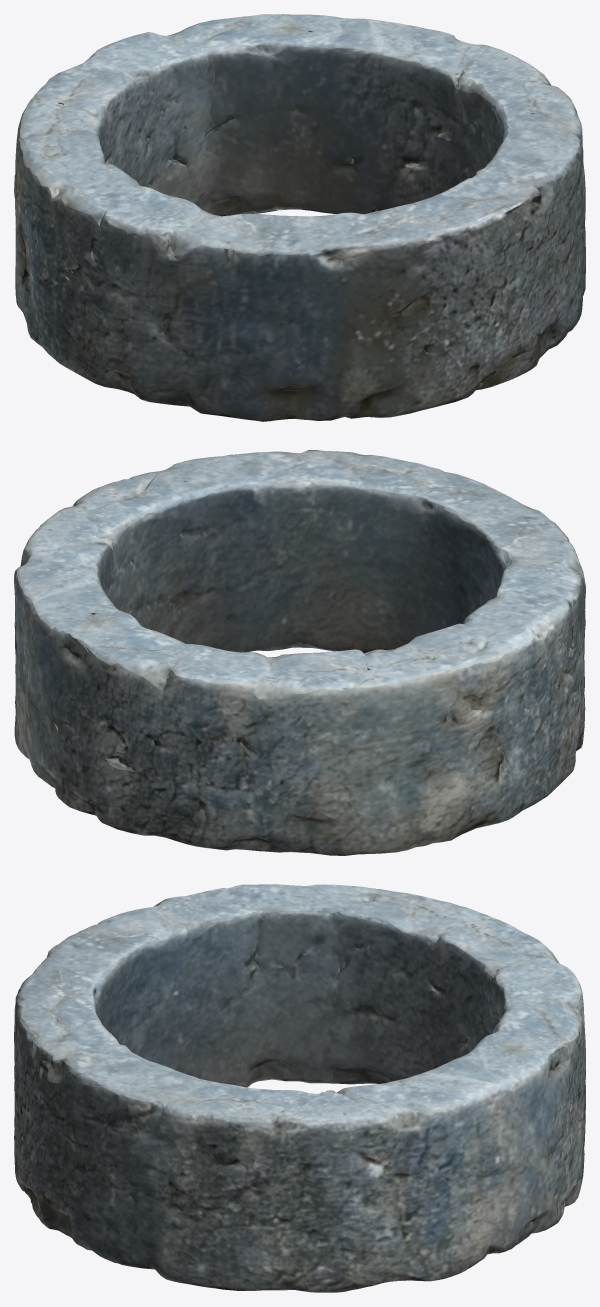
File: well.glb
3 renders of one model, top to bottom at view 1: azimuth 30°, elevation 25°; view 2: azimuth 150°, elevation 25°; view 3: azimuth 270°, elevation 25°, orthographic.
Visible parts, largest first — view 1: geometry_0; view 2: geometry_0; view 3: geometry_0.
Part boxes in pixels (left/top/right/bottom): geometry_0: left=14, top=14, right=585, bottom=421; geometry_0: left=14, top=450, right=585, bottom=855; geometry_0: left=14, top=884, right=585, bottom=1292.
Bounding box in the file's own units: 0.45 × 0.1573 × 0.4501.
1 material, 1 textured.
